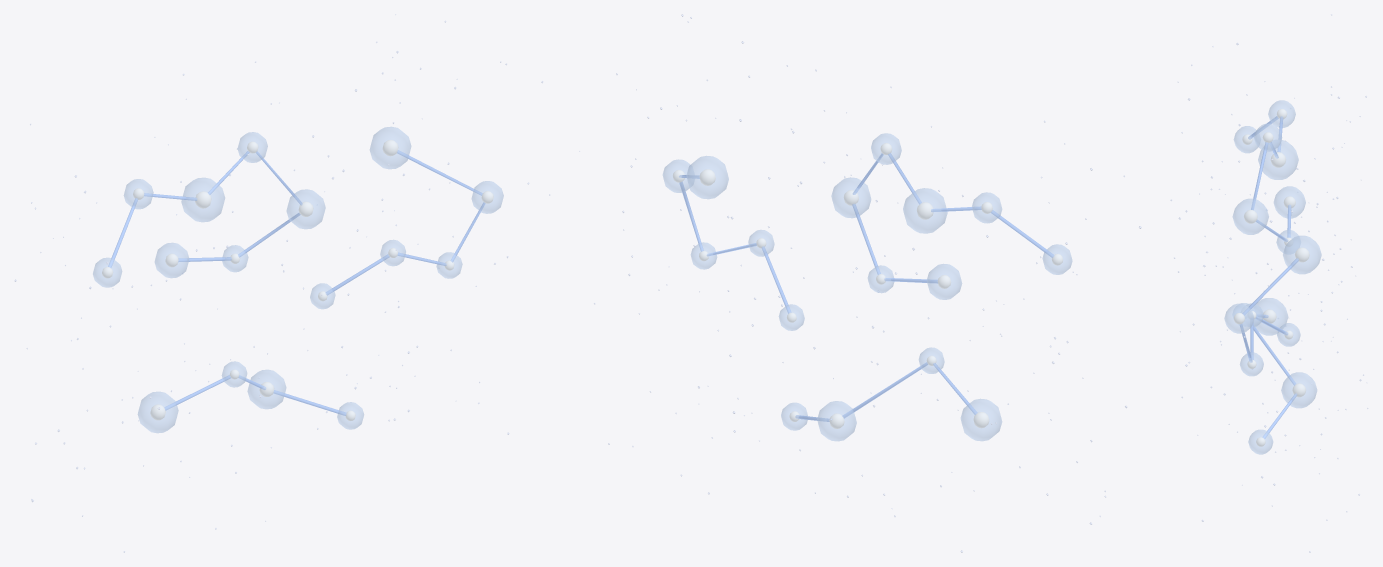
The model's file is fx3d-k-constellation.glb.
3 views of the same model, side by side, from view 1: azimuth 30°, elevation 25°; view 2: azimuth 150°, elevation 25°; view 3: azimuth 270°, elevation 25° (orthographic). The views are drawn at different scales.
Parts seen in each view (by area): view 1: sh0_2, cl0, sh1_4, sh2_0, sh0_4, sh2_2, cl1, sh0_6, sh1_3, sh0_3, cl2, sh0_1 (+2 smaller); view 2: sh0_2, cl0, sh1_4, sh2_0, sh2_2, sh0_4, sh0_6, cl1, sh1_3, cl2, sh0_3, sh0_1 (+2 smaller); view 3: sh1_4, sh0_2, sh0_4, sh2_2, sh2_0, cl0, sh0_6, cl1, sh1_3, sh0_3, field, sh0_1 (+7 smaller).
Part boxes in pixels (x1,y1,x2,y2): sh0_2: (181,177,224,222); cl0: (108,151,302,267); sh1_4: (369,126,411,169); sh2_0: (137,391,178,433); sh0_4: (286,189,325,229); sh2_2: (247,369,286,409); cl1: (325,150,485,295); sh0_6: (154,242,189,278); sh1_3: (471,181,503,213); sh0_3: (237,132,267,162); cl2: (164,375,346,415); sh0_1: (123,179,153,209); sh0_2: (903,188,947,233); cl0: (852,153,1054,283); sh1_4: (686,156,728,199); sh2_0: (960,398,1002,441); sh2_2: (817,401,856,441); sh0_4: (831,177,871,218); sh0_6: (926,264,962,299); cl1: (679,175,791,313); sh1_3: (662,159,694,192); cl2: (795,362,977,421); sh0_3: (871,133,901,164); sh0_1: (972,192,1002,223); sh1_4: (1283,235,1321,274); sh0_2: (1258,140,1298,179); sh0_4: (1232,198,1268,234); sh2_2: (1281,372,1317,408); sh2_0: (1254,298,1288,335); cl0: (1248,116,1291,241); sh0_6: (1273,186,1305,218); cl1: (1240,258,1298,362); sh1_3: (1224,303,1254,333); sh0_3: (1254,123,1282,151); field: (1170,14,1368,552); sh0_1: (1268,100,1295,127).
Size of the model in its own units: 0.7804 by 0.5994 by 0.3014.
